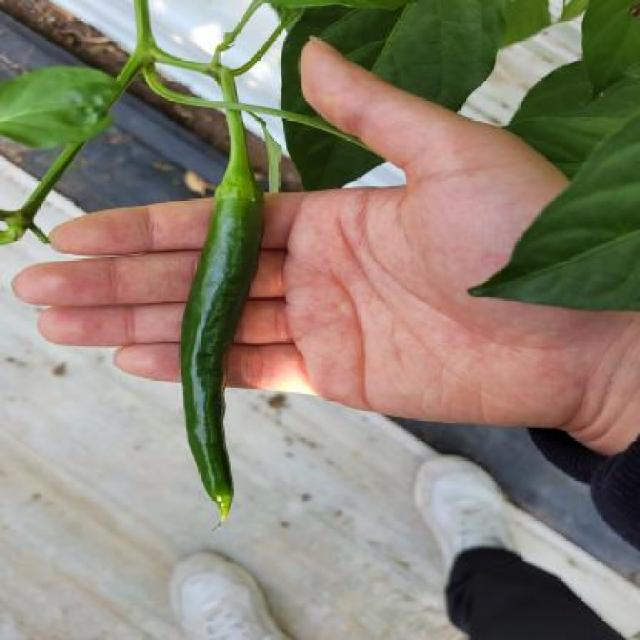green chilli: (179, 198, 266, 518)
